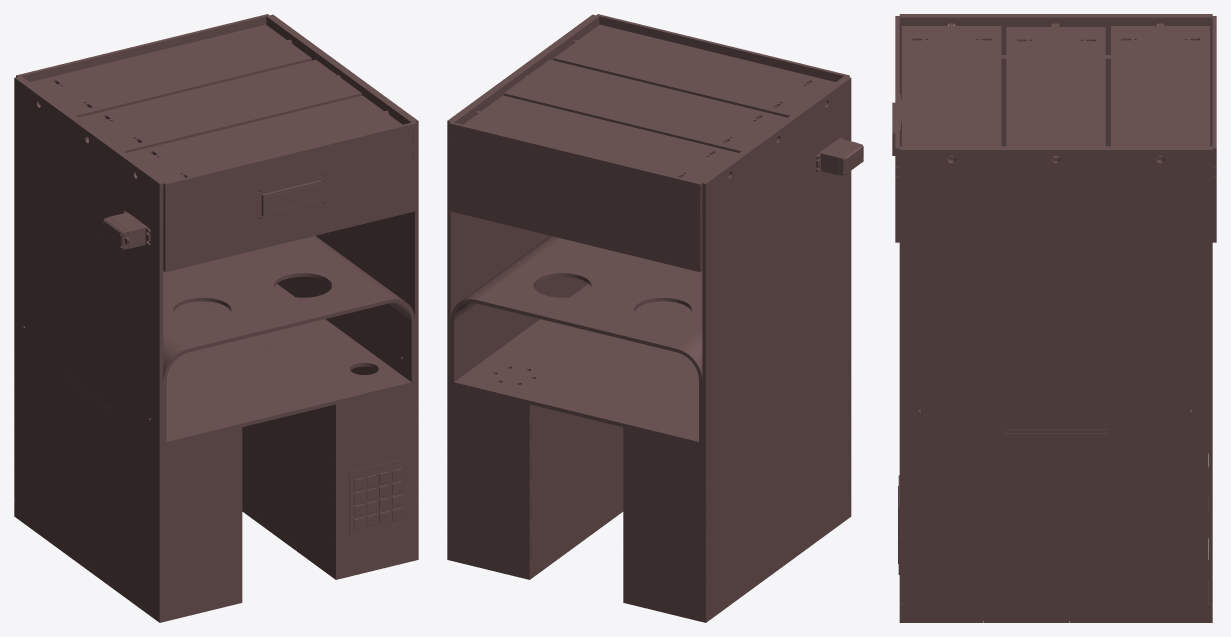
The picture shows the model from 3 angles, left to right: view 1: azimuth 30°, elevation 25°; view 2: azimuth 150°, elevation 25°; view 3: azimuth 270°, elevation 25°; orthographic projection. The views are drawn at different scales.
Visible parts, largest first — view 1: Assem1; view 2: Assem1; view 3: Assem1.
Boxes of the visible parts, x1,y1,x2,y2 form: Assem1: (14, 14, 418, 622); Assem1: (447, 14, 863, 622); Assem1: (892, 14, 1216, 622).
Size of the model in its own units: 339 by 500 by 311.
